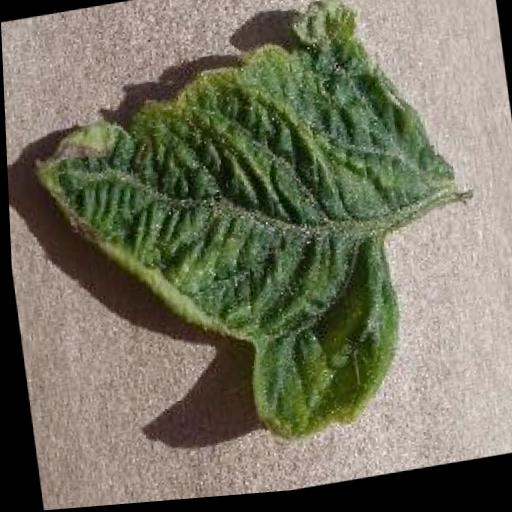Yellow Leaf Curl Virus: (14, 0, 480, 481)
